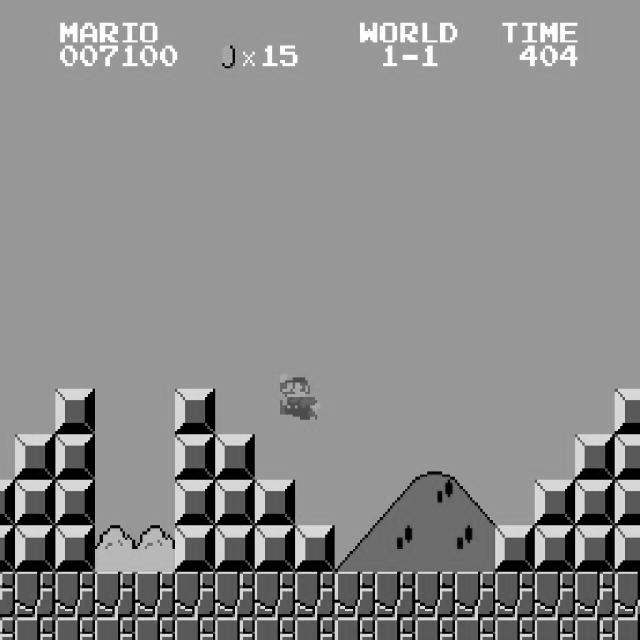11- little_mario: (277, 372, 320, 419)
17- undestructible_block: (54, 572, 96, 618), (94, 572, 136, 618), (134, 572, 176, 618), (174, 572, 216, 618), (214, 572, 256, 618), (254, 572, 296, 618), (294, 572, 336, 618), (334, 572, 376, 618), (374, 572, 416, 618), (414, 572, 456, 618), (454, 572, 496, 618), (494, 572, 536, 618), (534, 572, 576, 618), (574, 572, 616, 618), (15, 572, 56, 618), (614, 571, 640, 617), (54, 617, 96, 640), (94, 617, 136, 640), (134, 617, 176, 640), (174, 617, 216, 640), (214, 617, 256, 640), (254, 617, 296, 640), (294, 617, 336, 640), (334, 617, 376, 640), (374, 617, 416, 640), (414, 617, 456, 640), (454, 617, 496, 640), (494, 617, 536, 640), (534, 617, 576, 640), (574, 617, 616, 640), (15, 617, 56, 640), (0, 572, 15, 618), (614, 617, 640, 639), (0, 617, 15, 640)
9- hard_block: (54, 388, 96, 434), (54, 434, 96, 480), (54, 480, 96, 526), (54, 526, 96, 572), (174, 388, 216, 434), (174, 434, 216, 480), (174, 480, 216, 526), (174, 526, 216, 572), (214, 434, 256, 480), (214, 480, 256, 526), (214, 526, 256, 572), (254, 480, 296, 526), (254, 526, 296, 572), (294, 526, 336, 572), (494, 526, 536, 572), (534, 480, 576, 526), (534, 526, 576, 572), (574, 434, 616, 480), (574, 480, 616, 526), (574, 526, 616, 572), (15, 434, 56, 480), (15, 480, 56, 526), (15, 526, 56, 572), (614, 388, 640, 434), (614, 525, 640, 571), (614, 434, 640, 479), (614, 480, 640, 525), (0, 480, 15, 526), (0, 526, 15, 572)
